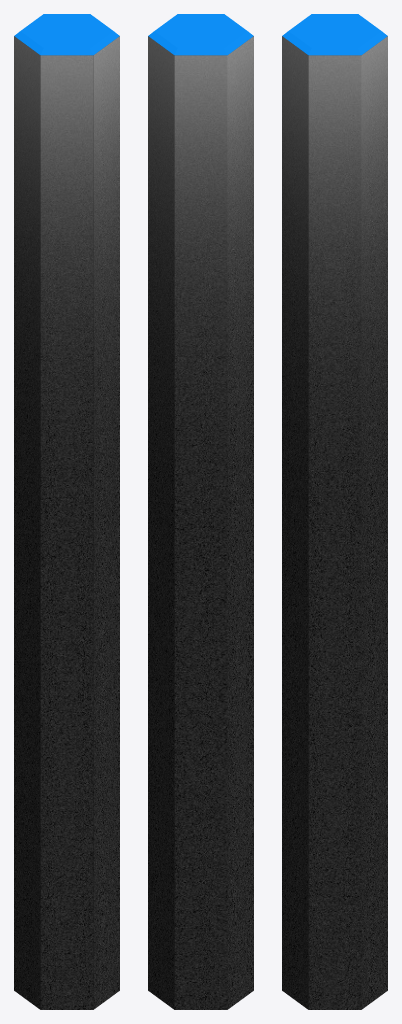
The model's file is hexa_with_edge_AO_3.glb.
The picture shows the model from 3 angles, left to right: view 1: azimuth 90°, elevation 25°; view 2: azimuth 150°, elevation 25°; view 3: azimuth 270°, elevation 25°; orthographic projection.
Parts seen in each view (by area): view 1: Cylinder, Cylinder.031; view 2: Cylinder, Cylinder.031; view 3: Cylinder, Cylinder.031.
Boxes of the visible parts, x1,y1,x2,y2 form: Cylinder: [14, 36, 119, 1009]; Cylinder.031: [14, 14, 119, 55]; Cylinder: [148, 36, 253, 1009]; Cylinder.031: [148, 14, 253, 55]; Cylinder: [282, 36, 387, 1009]; Cylinder.031: [282, 14, 387, 55].
Size of the model in its own units: 1.73 by 20 by 2.
2 materials, 1 textured.
